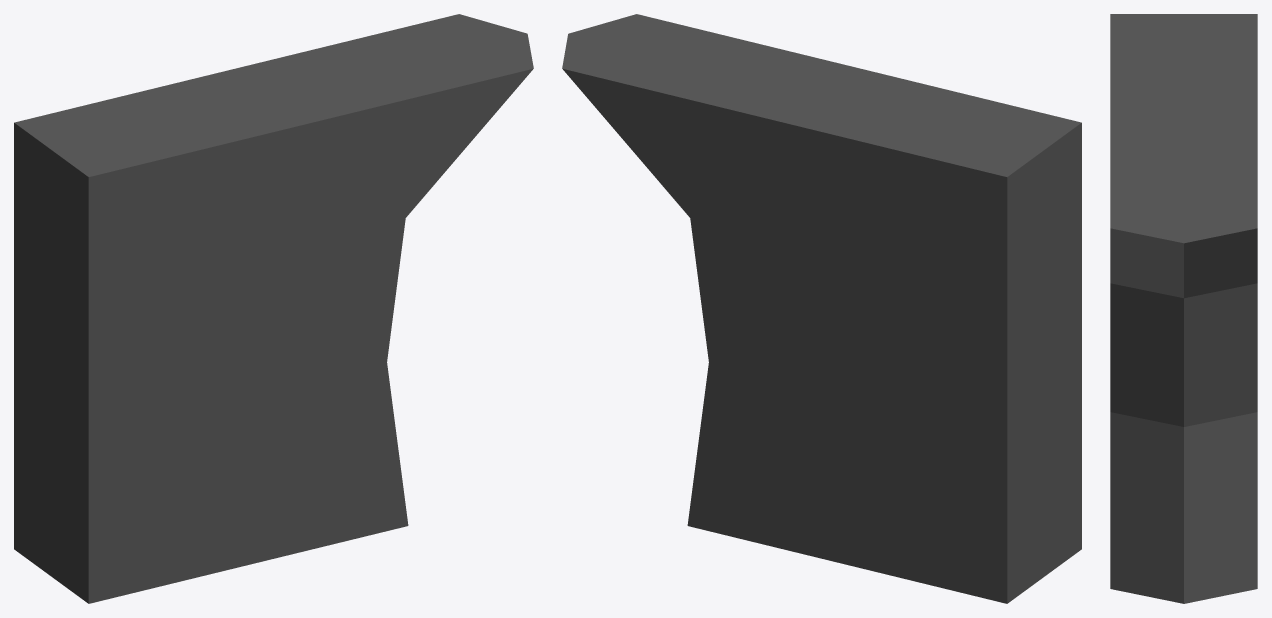
File: SMG4_02_2.fbx
3 renders of one model, left to right at view 1: azimuth 30°, elevation 25°; view 2: azimuth 150°, elevation 25°; view 3: azimuth 270°, elevation 25°, orthographic.
Parts seen in each view (by area): view 1: SMG4_02_2; view 2: SMG4_02_2; view 3: SMG4_02_2.
Boxes of the visible parts, box(x1,y1,x2,y2) form: SMG4_02_2: box(14, 14, 533, 603); SMG4_02_2: box(562, 14, 1081, 603); SMG4_02_2: box(1110, 14, 1257, 603).
Size of the model in its own units: 0.0446 by 0.0382 by 0.0121.
